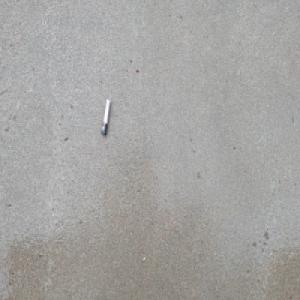Battery: (100, 97, 110, 136)
